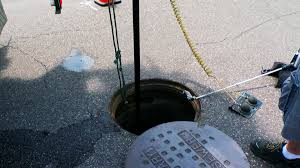Manhole-Open: (105, 66, 209, 140)
